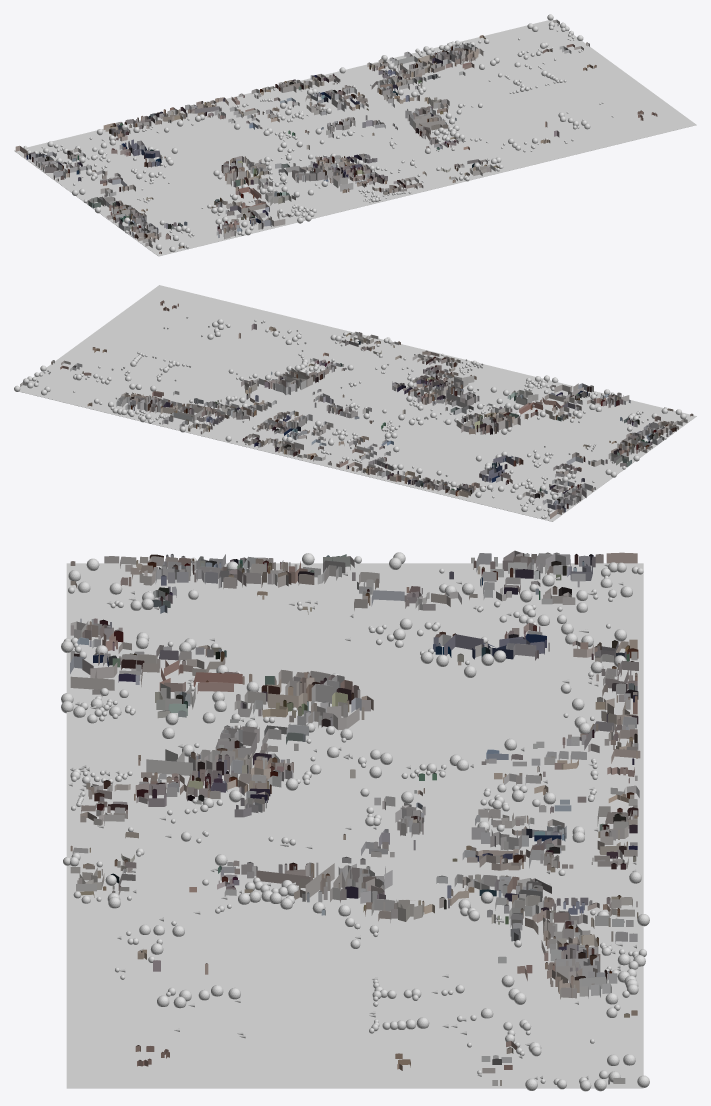
File: scene_c9e6c7c7-80da-4637-bd4b-afb45c5578b4.glb
3 views of the same model, one above another, from view 1: azimuth 30°, elevation 25°; view 2: azimuth 150°, elevation 25°; view 3: azimuth 270°, elevation 25° (orthographic). The views are drawn at different scales.
Parts seen in each view (by area): view 1: Ground_Base; view 2: Ground_Base; view 3: Ground_Base, BLD-1090, BLD-937.
Part boxes in pixels (x1,y1,x2,y2): Ground_Base: [14, 20, 696, 256]; Ground_Base: [19, 285, 696, 521]; Ground_Base: [66, 563, 643, 1088]; BLD-1090: [70, 659, 117, 690]; BLD-937: [146, 749, 192, 775].
Bounding box in the file's own units: 1189 × 25.92 × 559.
